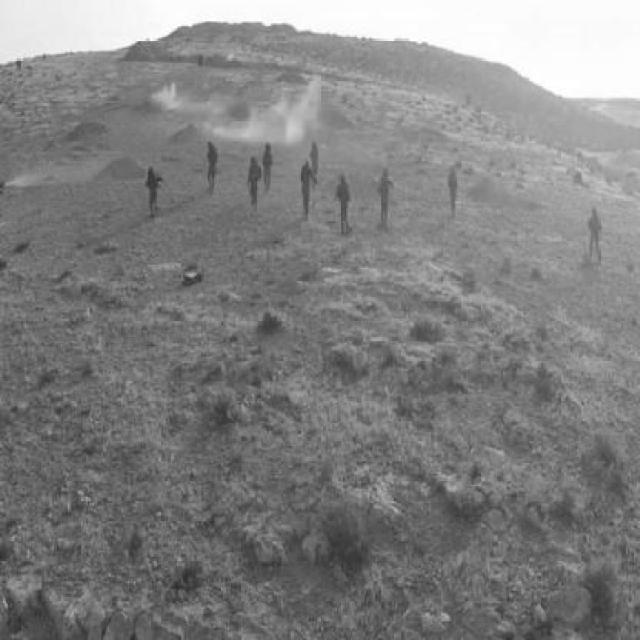Person: (379, 165, 398, 231), (589, 204, 608, 267), (302, 159, 320, 223), (339, 173, 355, 238), (147, 163, 166, 217), (207, 139, 224, 192), (251, 155, 265, 210), (263, 142, 277, 197), (449, 164, 463, 216), (312, 139, 324, 190), (3, 170, 10, 201)
